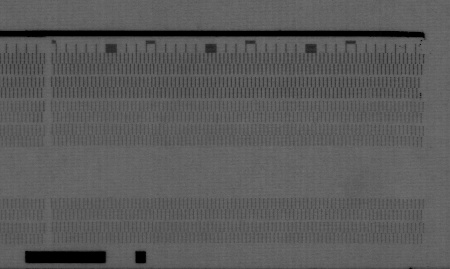Broken hole: (2, 146, 428, 201)
Oblique printing: (415, 87, 426, 100)
